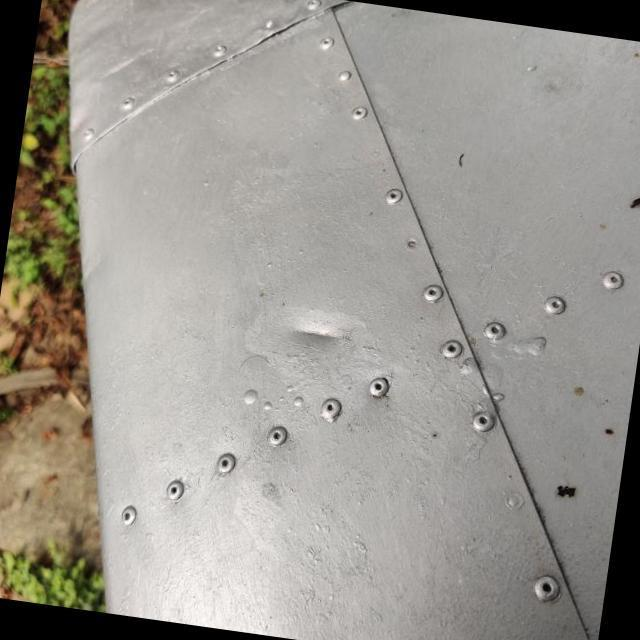Dent: (258, 280, 368, 386)
